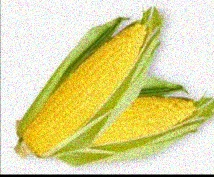corn: (16, 12, 159, 160), (57, 97, 212, 164)
